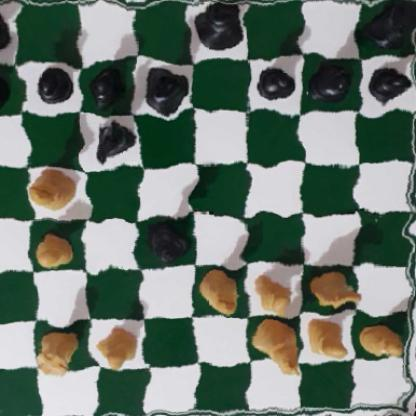black-bishop: (140, 66, 194, 112)
black-king: (194, 0, 252, 53)
black-knight: (84, 117, 140, 165)
black-pawn: (307, 57, 353, 101), (368, 62, 414, 105), (257, 58, 296, 104), (88, 61, 127, 107), (28, 66, 74, 104), (0, 64, 10, 107)
black-queen: (139, 221, 186, 268)
black-rook: (368, 3, 416, 48), (0, 0, 18, 53)
white-bishop: (28, 169, 80, 211), (199, 271, 242, 320)
white-king: (253, 317, 303, 380)
white-knight: (304, 266, 367, 309)
white-pawn: (301, 316, 350, 360), (98, 326, 142, 371), (252, 268, 294, 314), (360, 322, 406, 357), (35, 233, 76, 268)
white-rook: (33, 324, 85, 377)
